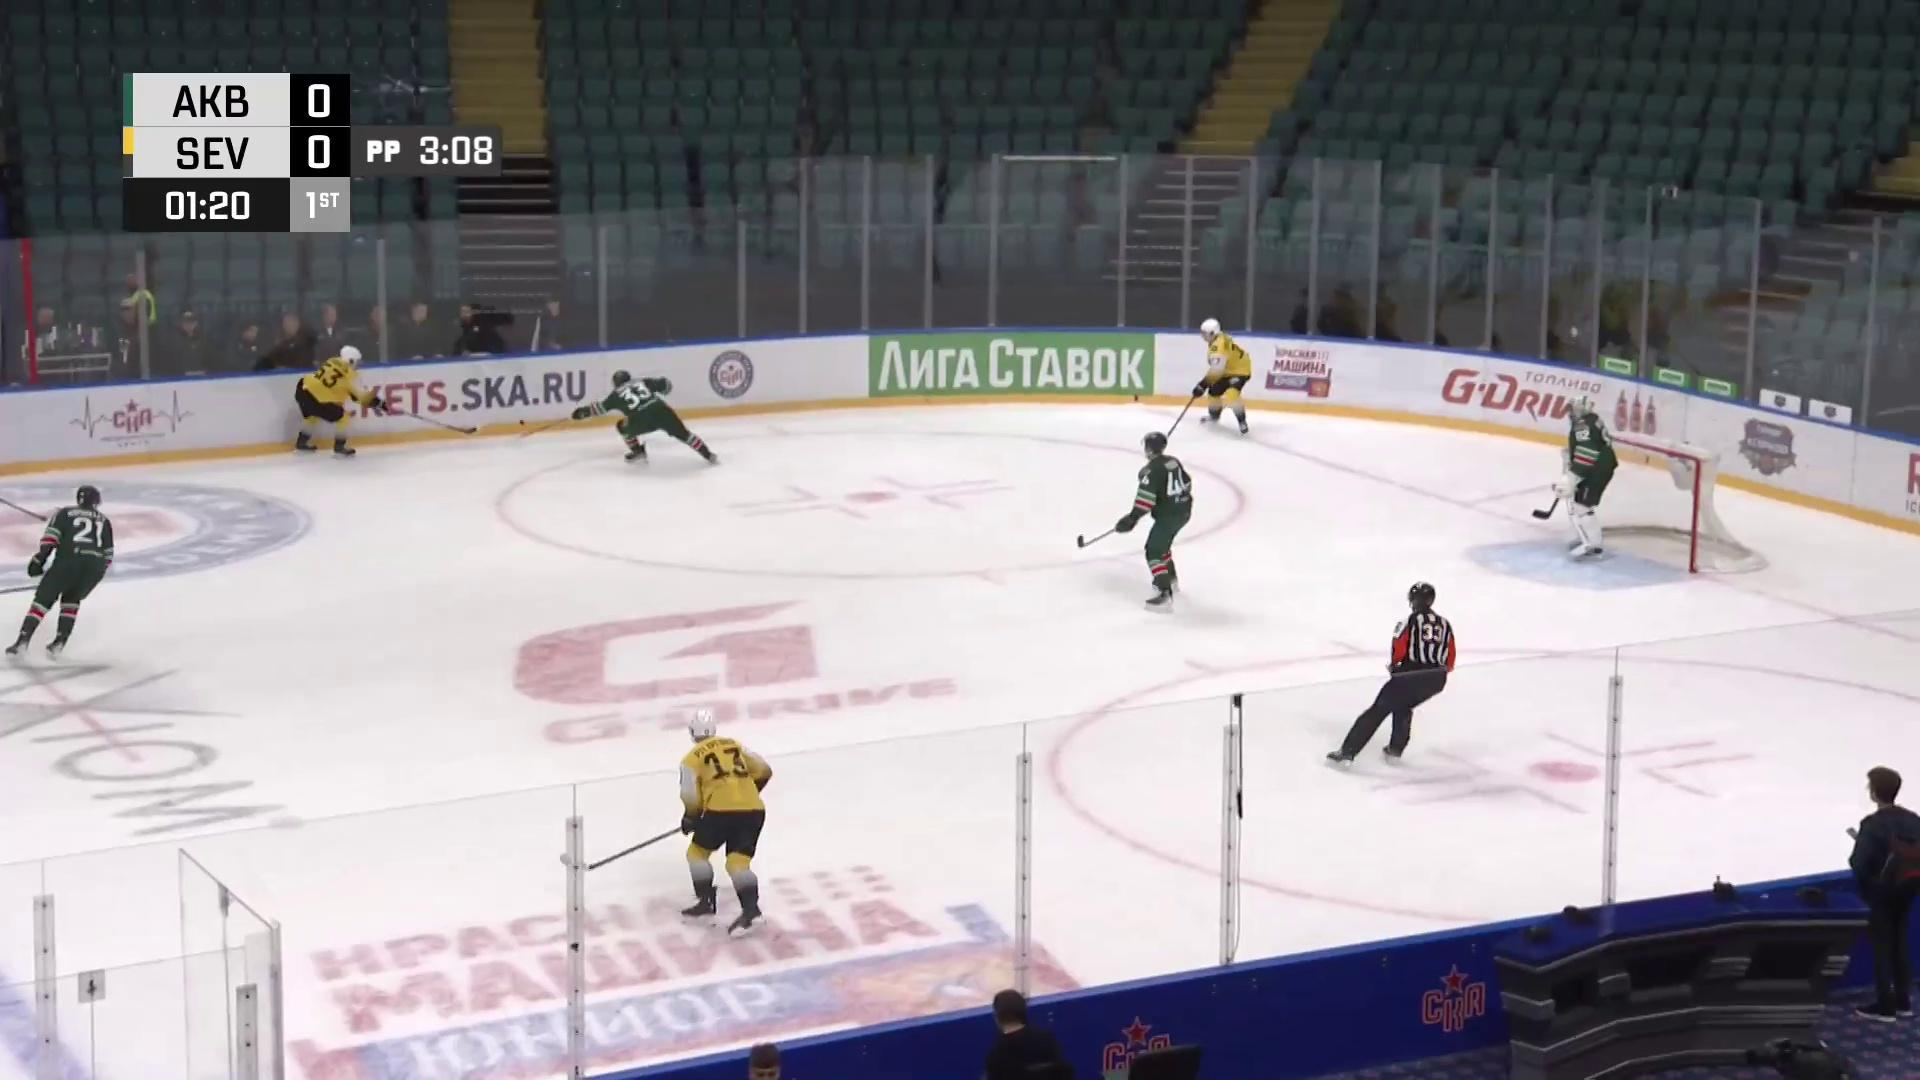ball: (518, 419, 526, 426)
